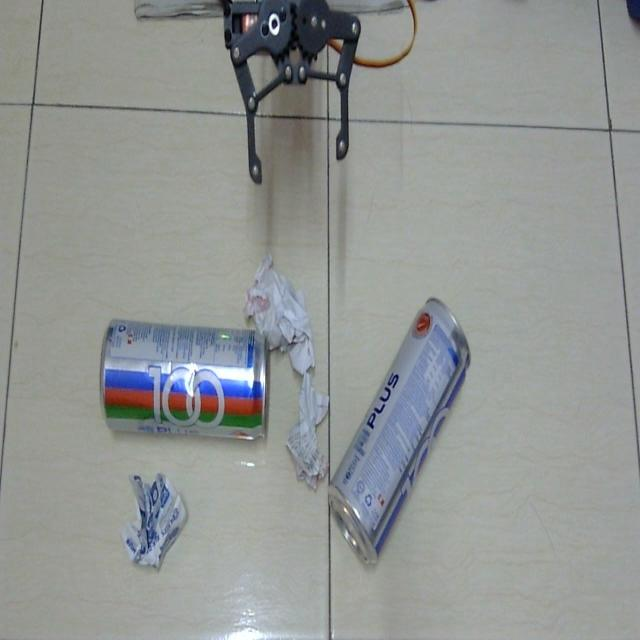Metal-laydown_45right-rotation: (328, 292, 476, 568)
Metal-laydown_90-rotation: (94, 314, 274, 463)
Paperrotation: (243, 256, 320, 376), (120, 464, 192, 578), (284, 370, 334, 494)
